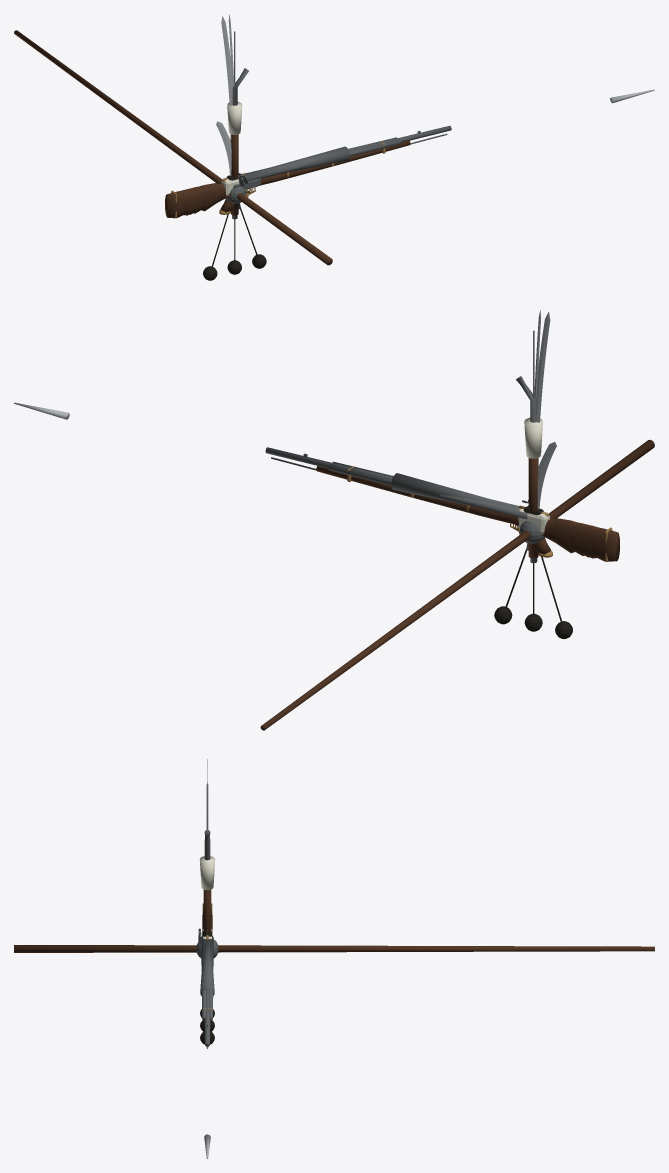
The model's file is equipment.glb.
3 renders of one model, top to bottom at view 1: azimuth 30°, elevation 25°; view 2: azimuth 150°, elevation 25°; view 3: azimuth 270°, elevation 25°, orthographic. The views are drawn at different scales.
Visible parts, largest first — view 1: Lance_Shaft, item_1800_Rifle_Walnut_Stock, item_1807_Rifle_Barrel, Bolas_Cord, item_1804_Rifle_Barrel, item_1800_Rifle_Barrel, item_1807_Rifle_Walnut_Stock, item_1809_Sabre_Curved_Blade, Torch_Wood, Wrapped_Torch; view 2: Lance_Shaft, item_1800_Rifle_Walnut_Stock, item_1807_Rifle_Barrel, item_1804_Rifle_Barrel, Bolas_Cord, item_1807_Rifle_Walnut_Stock, item_1800_Rifle_Barrel, item_1809_Sabre_Curved_Blade, Torch_Wood, Wrapped_Torch; view 3: Lance_Shaft.
Boxes of the visible parts, x1,y1,x2,y2 form: Lance_Shaft: (14,30,332,265); item_1800_Rifle_Walnut_Stock: (165,140,410,218); item_1807_Rifle_Barrel: (238,146,349,187); Bolas_Cord: (203,207,266,280); item_1804_Rifle_Barrel: (238,131,419,185); item_1800_Rifle_Barrel: (233,125,451,189); item_1807_Rifle_Walnut_Stock: (200,183,226,211); item_1809_Sabre_Curved_Blade: (221,16,232,140); Torch_Wood: (230,134,238,215); Wrapped_Torch: (227,102,242,134); Lance_Shaft: (260,439,654,730); item_1800_Rifle_Walnut_Stock: (316,466,619,561); item_1807_Rifle_Barrel: (391,473,519,508); item_1804_Rifle_Barrel: (328,461,527,519); Bolas_Cord: (494,549,572,638); item_1807_Rifle_Walnut_Stock: (505,518,576,553); item_1800_Rifle_Barrel: (265,447,528,500); item_1809_Sabre_Curved_Blade: (536,311,550,466); Torch_Wood: (528,458,538,558); Wrapped_Torch: (524,417,542,458); Lance_Shaft: (14,945,654,952).
Size of the model in its own units: 2.38 by 1.22 by 2.65.
